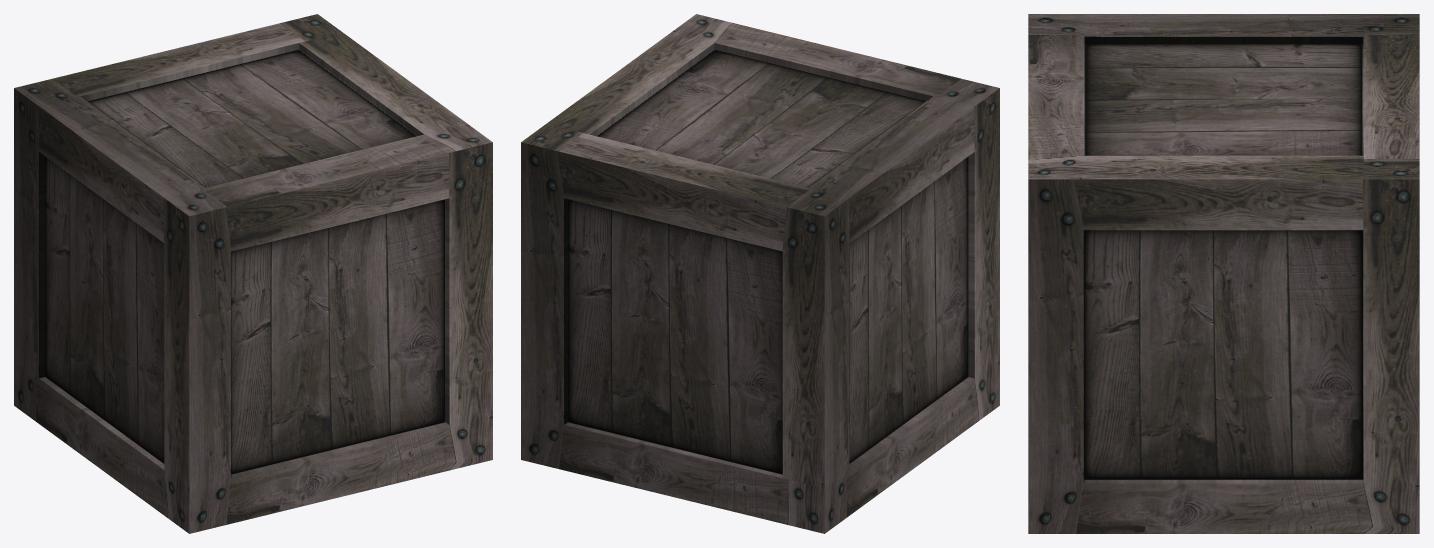
The model's file is Crate.glb.
3 renders of one model, left to right at view 1: azimuth 30°, elevation 25°; view 2: azimuth 150°, elevation 25°; view 3: azimuth 270°, elevation 25°, orthographic. The views are drawn at different scales.
Visible parts, largest first — view 1: Crate; view 2: Crate; view 3: Crate.
Boxes of the visible parts, box(x1,y1,x2,y2) form: Crate: box(14, 14, 492, 533); Crate: box(521, 14, 999, 533); Crate: box(1028, 14, 1419, 533).
Bounding box in the file's own units: 19.97 × 19.97 × 19.97.
Materials: 1 (1 with a texture image).
